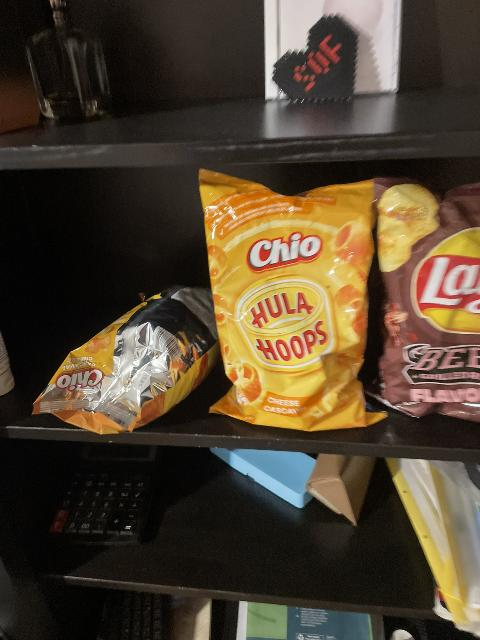Chio Cascaval 125g: (32, 283, 226, 429)
Chio Hula Hoops Cheese 70g: (194, 172, 385, 422)
Lays Beef Grilled Ribs 125g: (369, 181, 478, 415)
